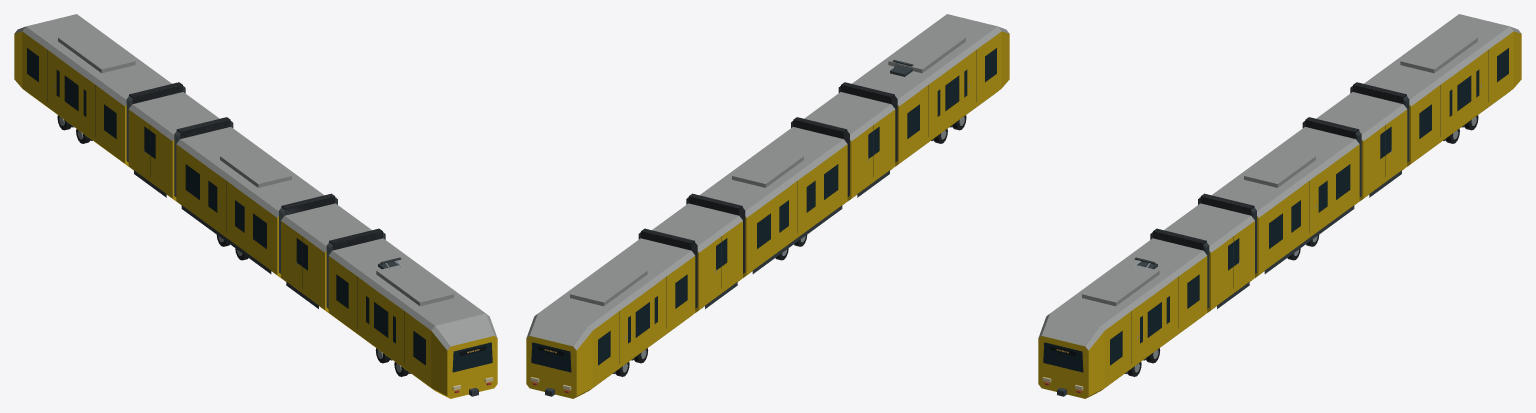
Rendered from tram-flexity-short.glb.
3 views of the same model, side by side, from view 1: azimuth 30°, elevation 25°; view 2: azimuth 150°, elevation 25°; view 3: azimuth 330°, elevation 25° (orthographic).
Visible parts, largest first — view 1: tram-flexity-short.segment-01.005, tram-flexity-short.segment-03.005, tram-flexity-short.segment-05.005, tram-flexity-short.segment-04.005, tram-flexity-short.segment-02.005; view 2: tram-flexity-short.segment-05.005, tram-flexity-short.segment-01.005, tram-flexity-short.segment-03.005, tram-flexity-short.segment-02.005, tram-flexity-short.segment-04.005; view 3: tram-flexity-short.segment-01.005, tram-flexity-short.segment-03.005, tram-flexity-short.segment-05.005, tram-flexity-short.segment-04.005, tram-flexity-short.segment-02.005.
Boxes of the visible parts, box(x1,y1,x2,y2) form: tram-flexity-short.segment-01.005: box(326, 228, 497, 398); tram-flexity-short.segment-03.005: box(174, 117, 323, 277); tram-flexity-short.segment-05.005: box(14, 14, 171, 166); tram-flexity-short.segment-04.005: box(126, 82, 219, 201); tram-flexity-short.segment-02.005: box(279, 193, 371, 312); tram-flexity-short.segment-05.005: box(526, 238, 695, 398); tram-flexity-short.segment-01.005: box(838, 14, 1009, 166); tram-flexity-short.segment-03.005: box(686, 127, 847, 277); tram-flexity-short.segment-02.005: box(791, 92, 895, 201); tram-flexity-short.segment-04.005: box(638, 203, 742, 312); tram-flexity-short.segment-01.005: box(1038, 228, 1209, 398); tram-flexity-short.segment-03.005: box(1212, 117, 1361, 277); tram-flexity-short.segment-05.005: box(1364, 14, 1521, 166); tram-flexity-short.segment-04.005: box(1316, 82, 1409, 201); tram-flexity-short.segment-02.005: box(1164, 193, 1256, 312).
Bounding box in the file's own units: 2.45 × 3.35 × 31.24.
